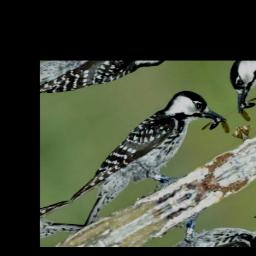Woodpecker: (49, 78, 243, 231)
